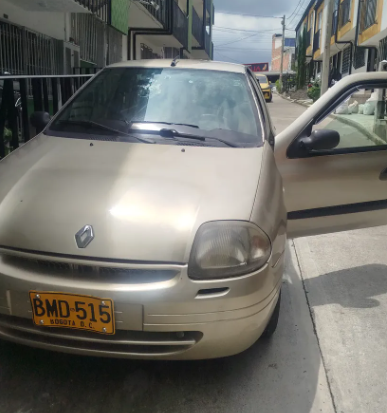placa: (28, 290, 116, 336)
